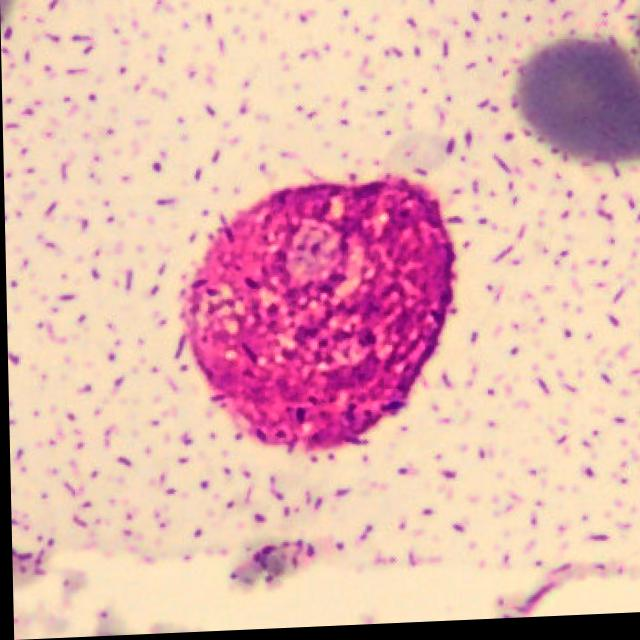Restos celulares: (177, 182, 454, 456)
